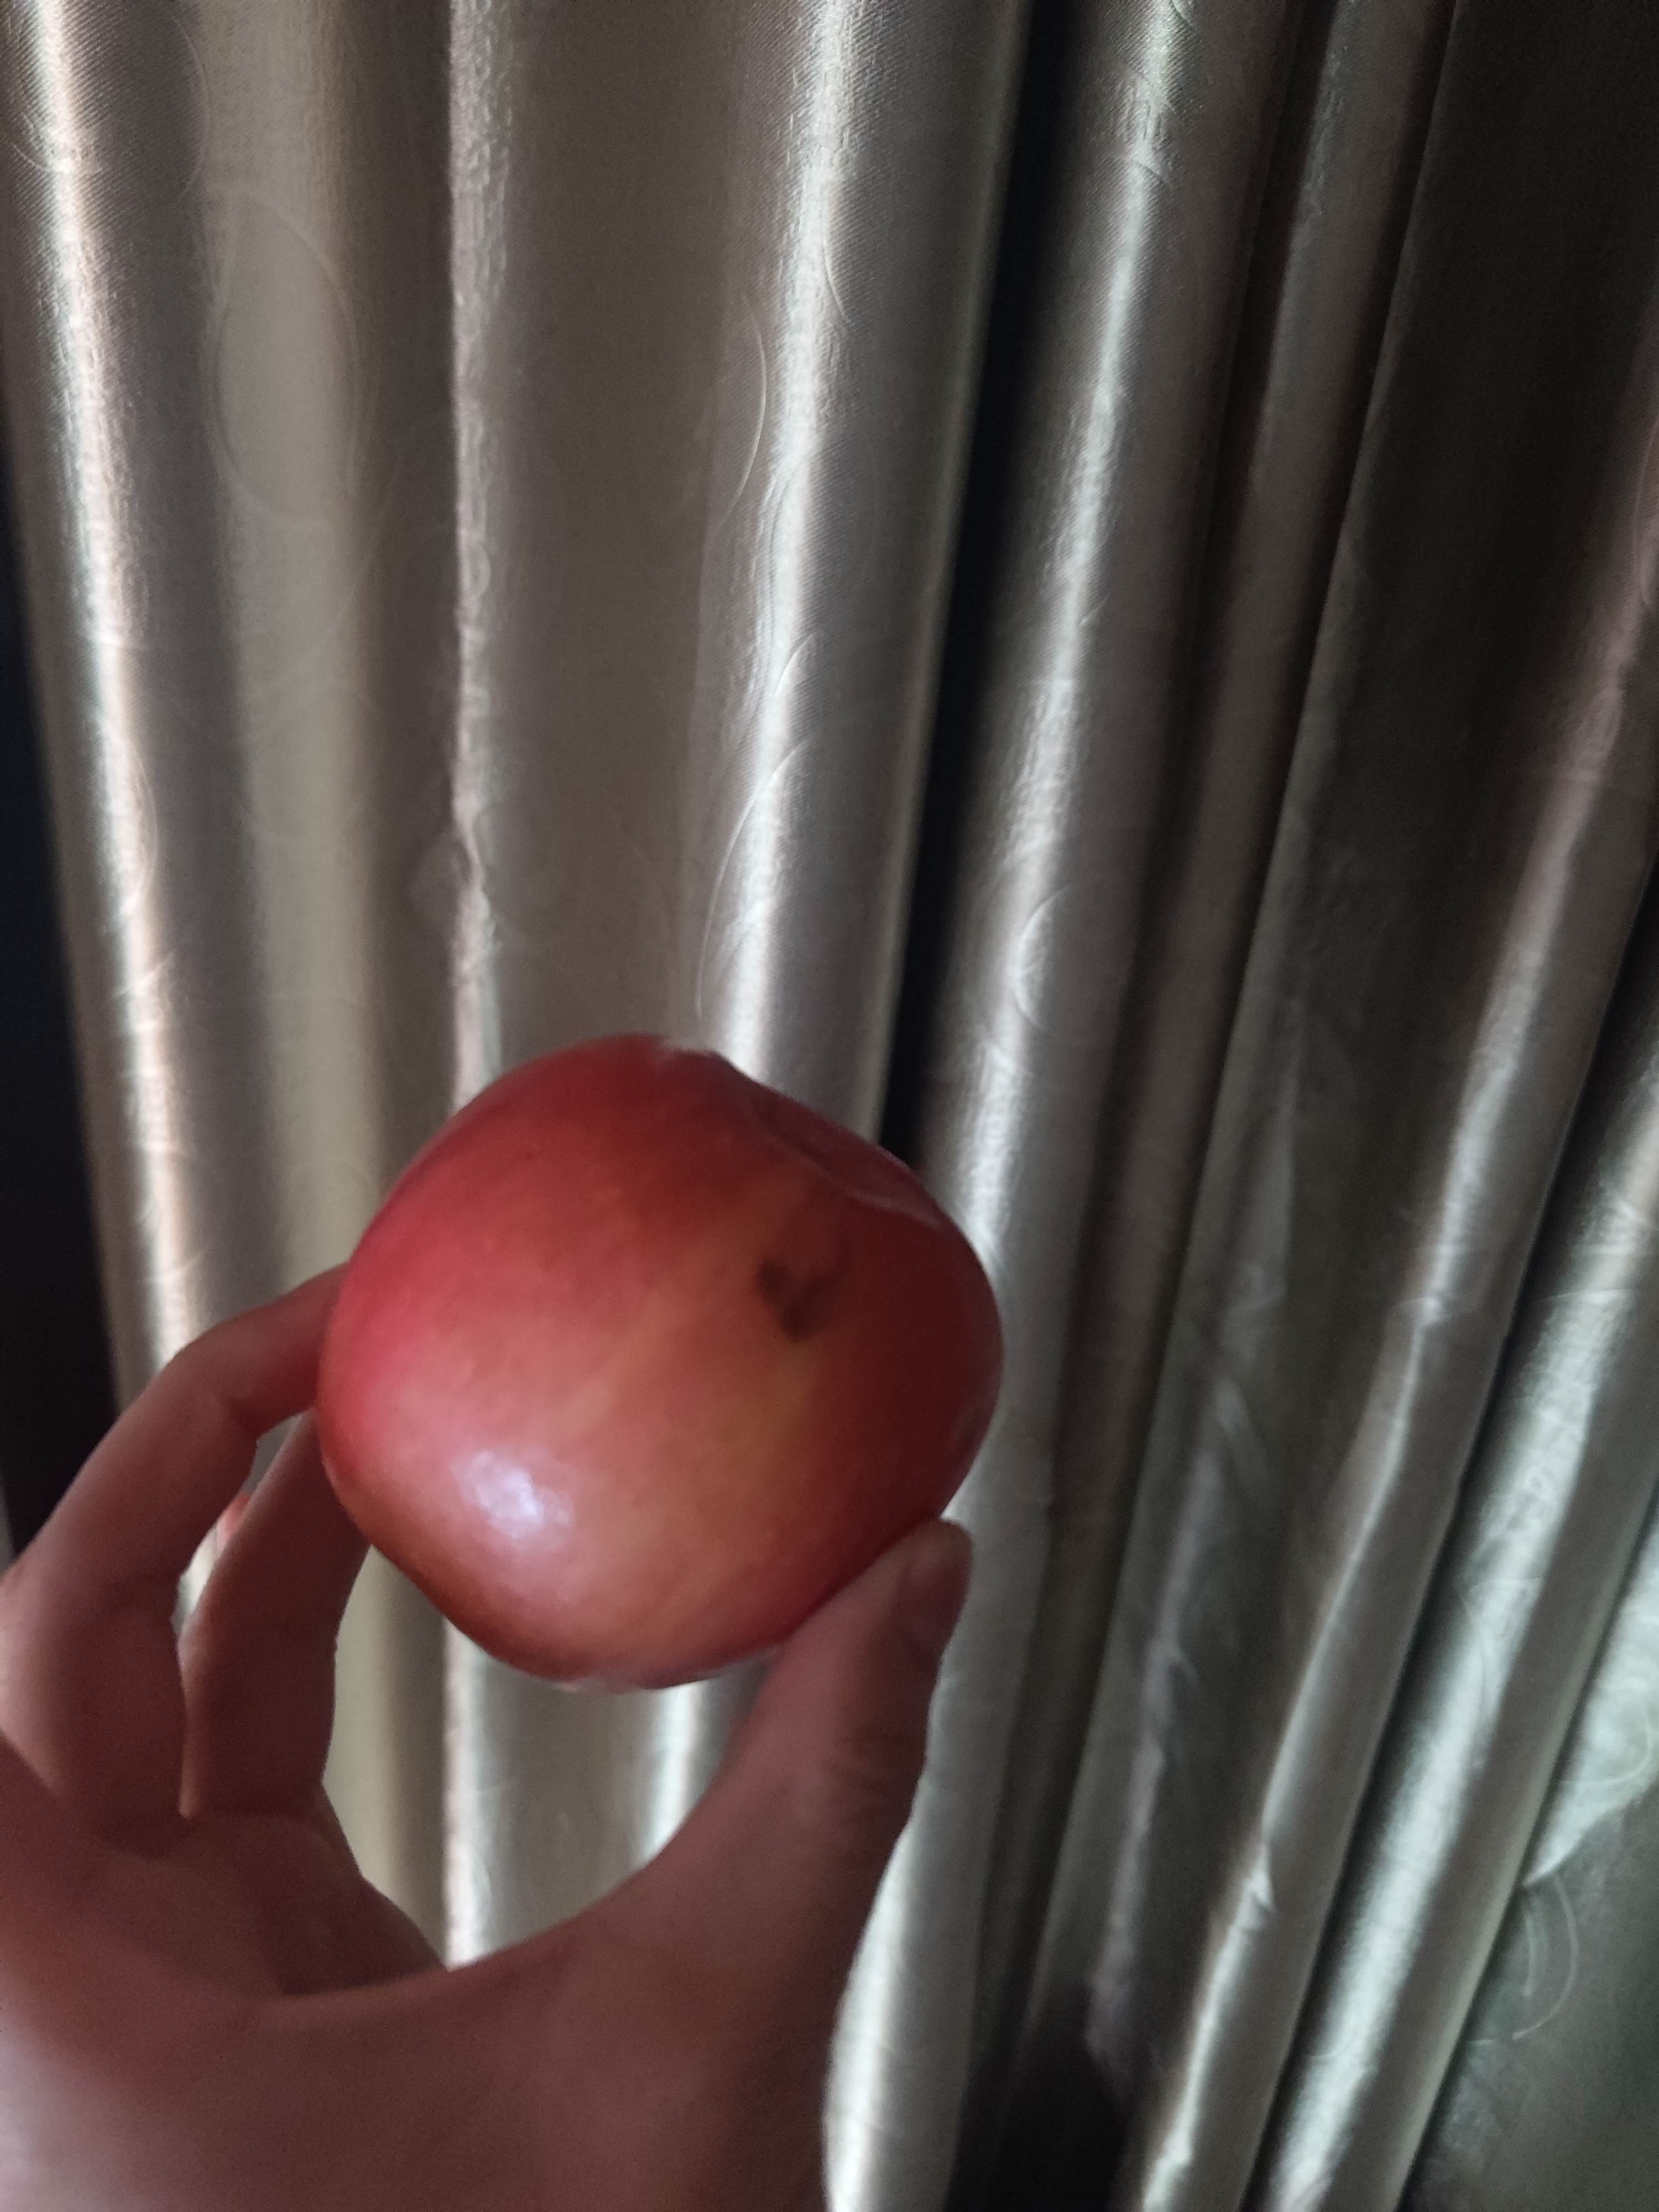apple: (314, 1026, 1004, 1689)
